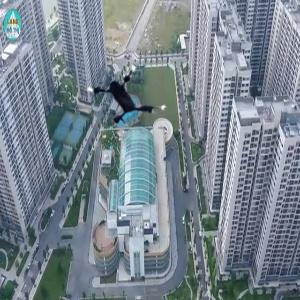drone: (80, 44, 177, 141)
